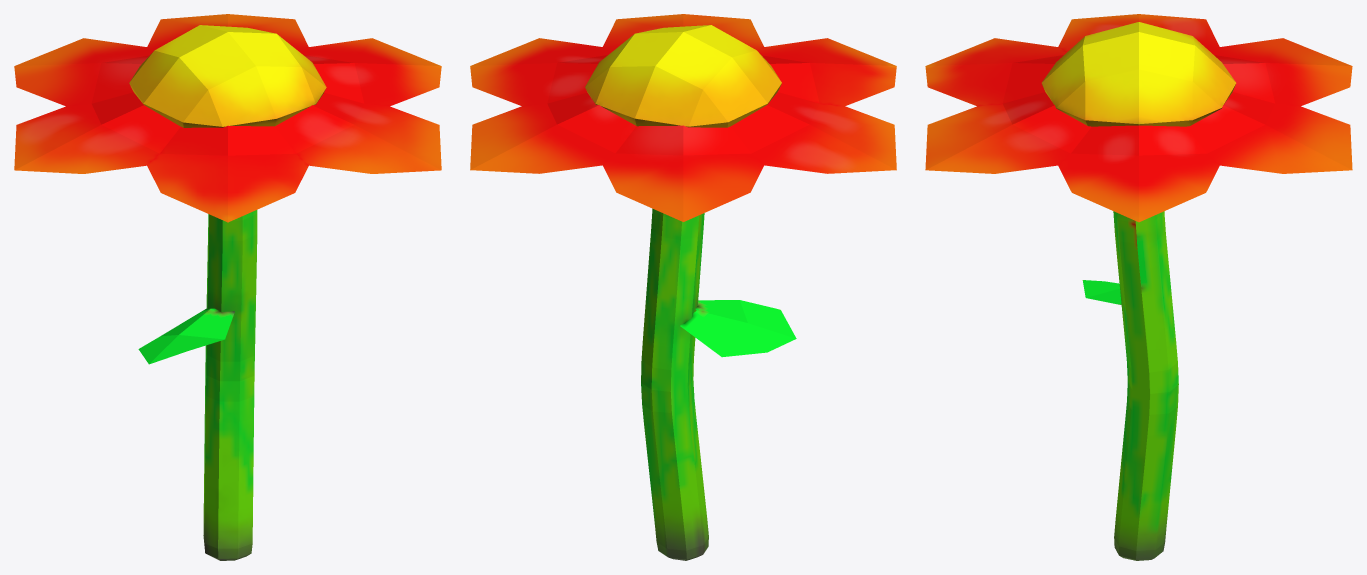
Rendered from Flower.fbx.
The picture shows the model from 3 angles, left to right: view 1: azimuth 30°, elevation 25°; view 2: azimuth 150°, elevation 25°; view 3: azimuth 270°, elevation 25°; orthographic projection.
Visible parts, largest first — view 1: Flower; view 2: Flower; view 3: Flower.
Part boxes in pixels (left/top/right/bottom): Flower: left=14, top=14, right=441, bottom=560; Flower: left=470, top=14, right=896, bottom=560; Flower: left=925, top=14, right=1352, bottom=560.
Size of the model in its own units: 4.38 by 5.13 by 3.8.
